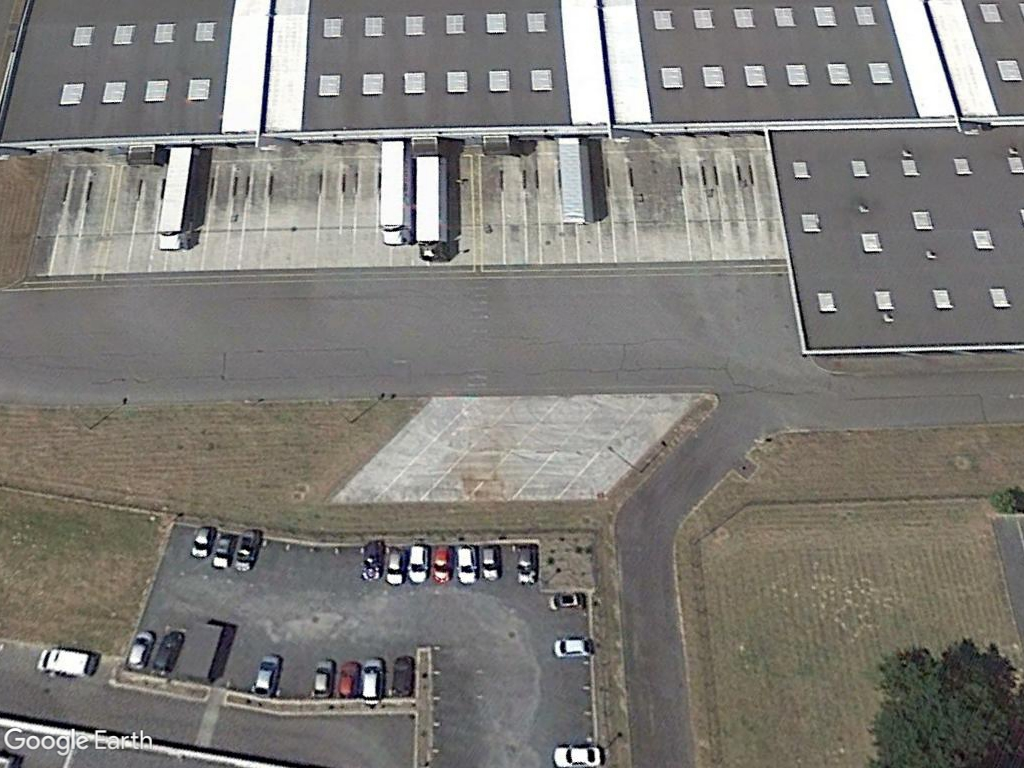car: (551, 742, 607, 768)
truck: (155, 144, 201, 256), (413, 150, 451, 267), (379, 136, 409, 250)
van: (37, 646, 98, 679)
